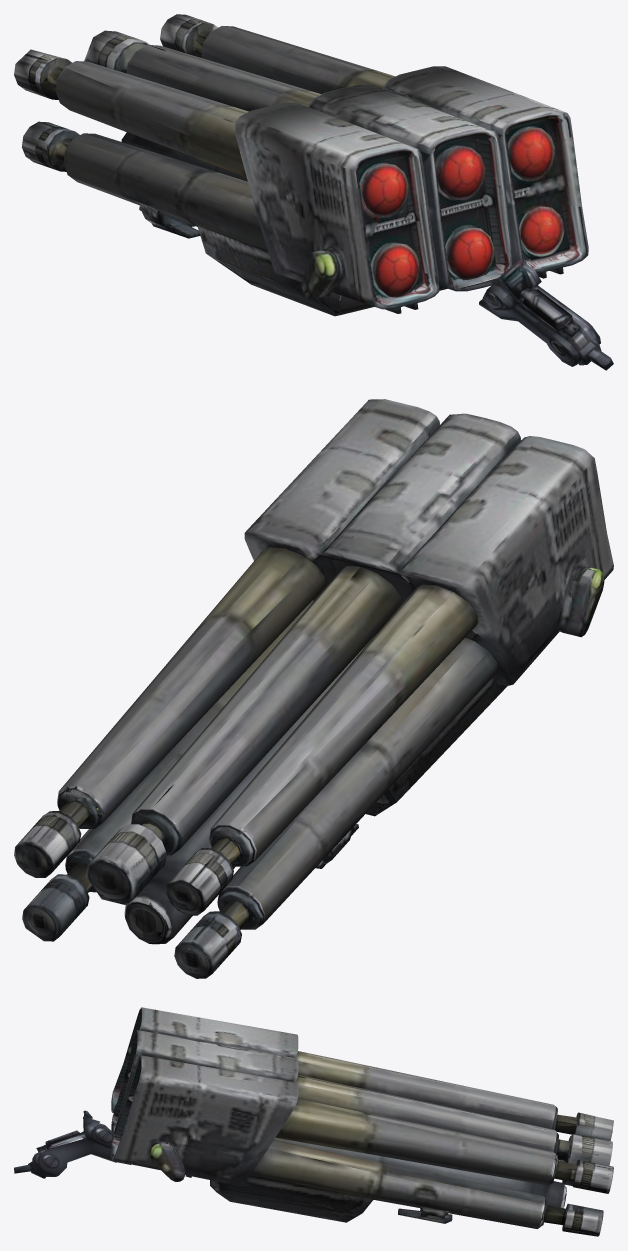
The picture shows the model from 3 angles, top to bottom: view 1: azimuth 30°, elevation 25°; view 2: azimuth 150°, elevation 25°; view 3: azimuth 270°, elevation 25°; orthographic projection. The views are drawn at different scales.
Visible parts, largest first — view 1: gun; view 2: gun; view 3: gun.
Boxes of the visible parts, x1,y1,x2,y2 form: gun: [14, 14, 613, 370]; gun: [14, 399, 613, 978]; gun: [14, 1007, 613, 1236].
Bounding box in the file's own units: 1.38 × 1.44 × 4.3.
Materials: 1 (1 with a texture image).
